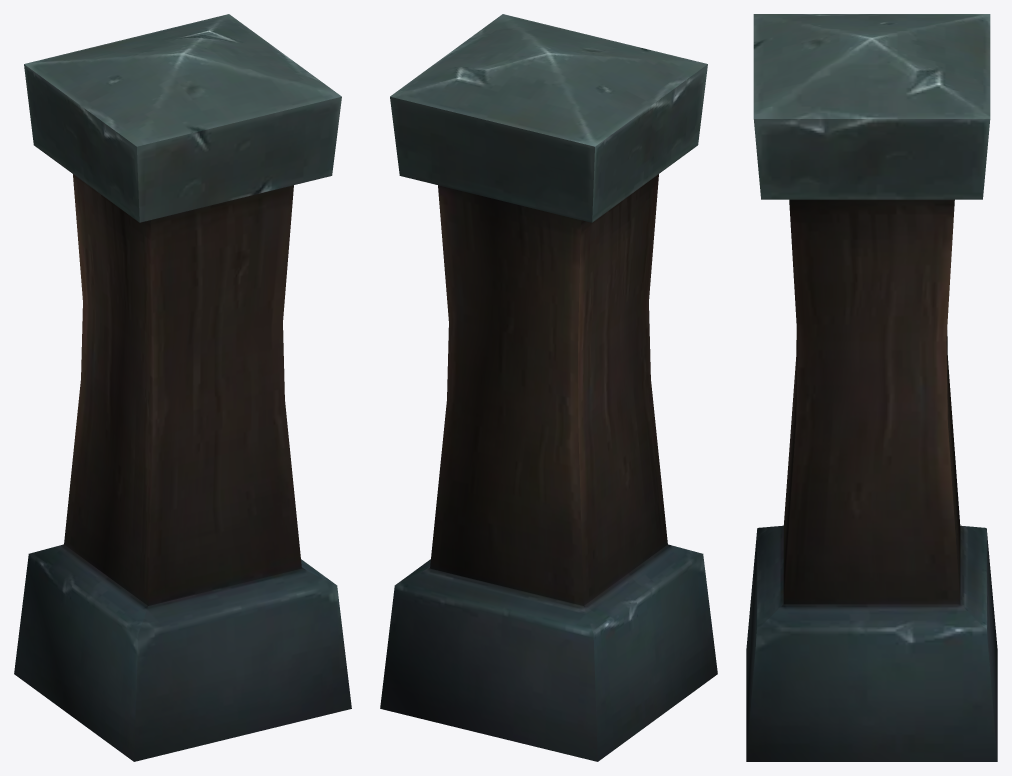
The picture shows the model from 3 angles, left to right: view 1: azimuth 30°, elevation 25°; view 2: azimuth 150°, elevation 25°; view 3: azimuth 270°, elevation 25°; orthographic projection. The views are drawn at different scales.
Bounding box in the file's own units: 0.7566 × 2.12 × 0.7222.
1 material, 1 textured.
